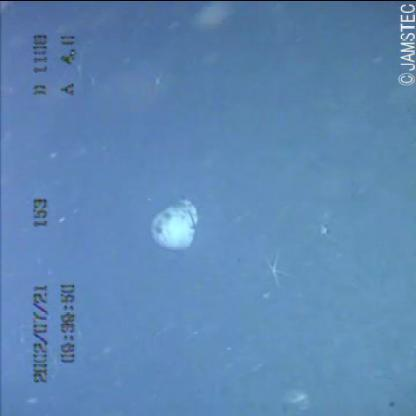Rác: (149, 189, 200, 255)
